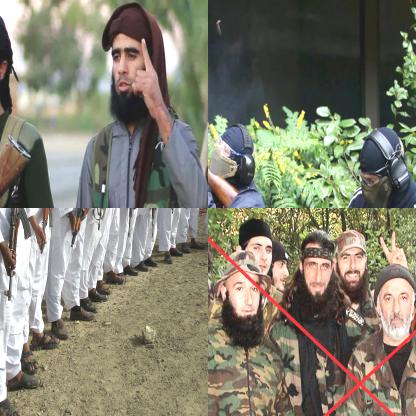rifle: (208, 59, 240, 207), (2, 208, 36, 302), (38, 208, 59, 256), (69, 208, 94, 248), (147, 208, 163, 240), (95, 208, 116, 232), (126, 208, 141, 238)
